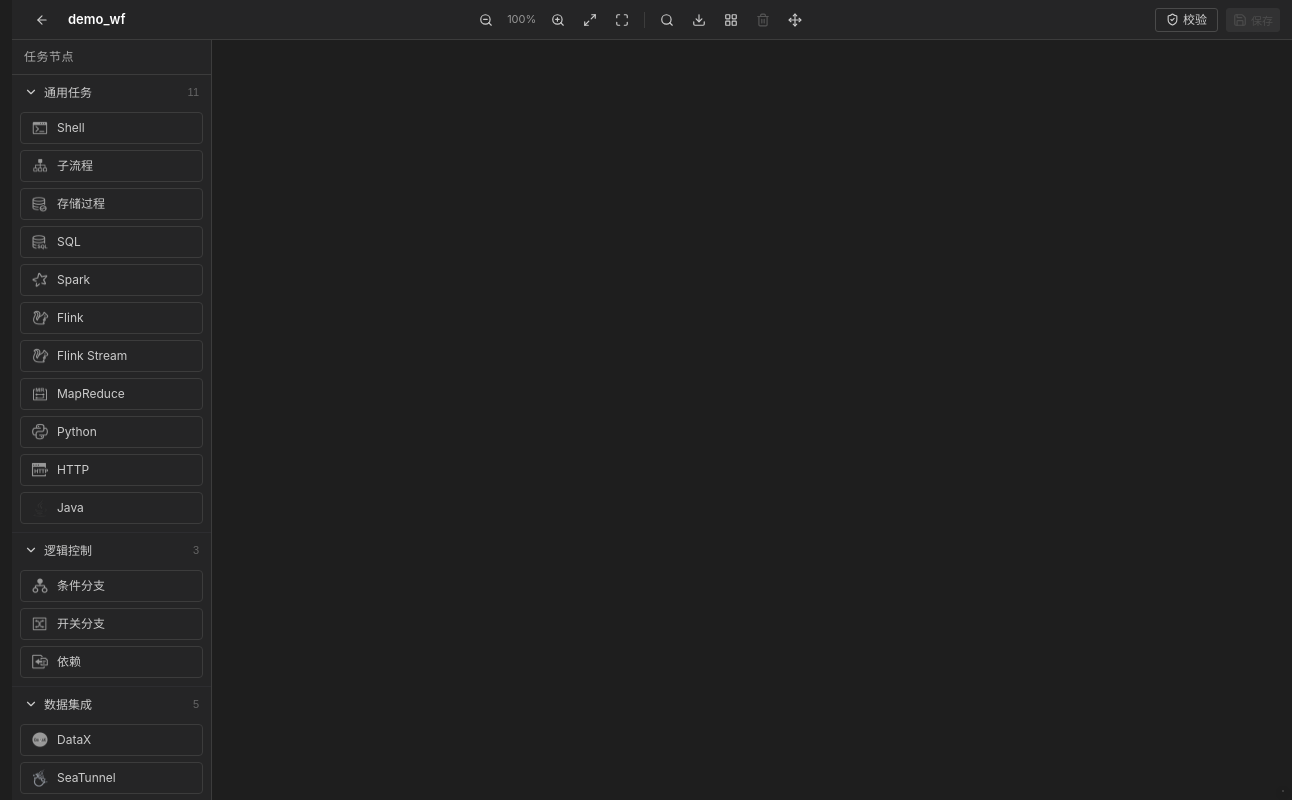
Test: WorkflowDefinitionEditor - 委托式校验通过前的保存闸门（onValidate） › 校验返回未通过（ok=false）时保存按钮仍不可用
Click the button with test id "wf-toolbar-validate": [1186, 20] box [1155,8,1218,32]
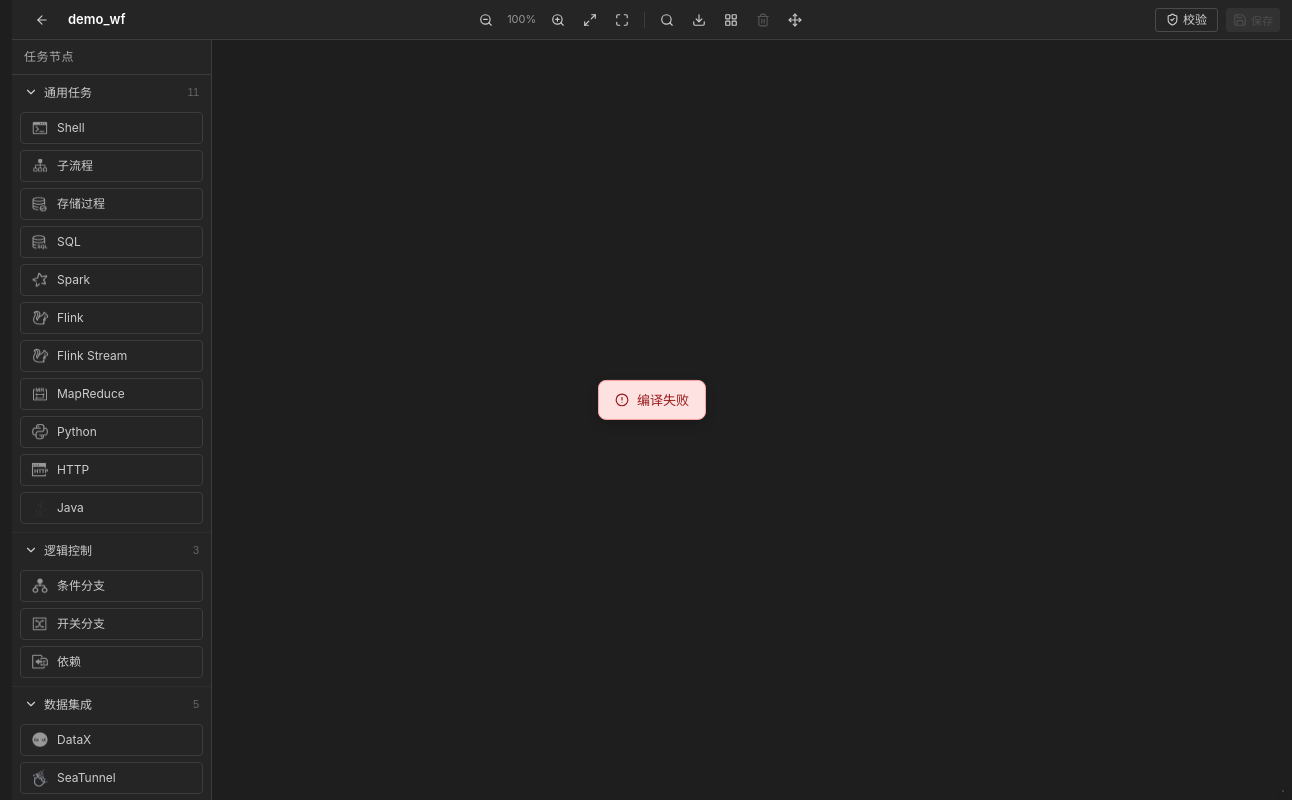
Check: the button with test id "wf-toolbar-save" is disabled, box [1226,8,1280,32]
Check: the text "编译失败" is shown, box [637,391,689,409]
